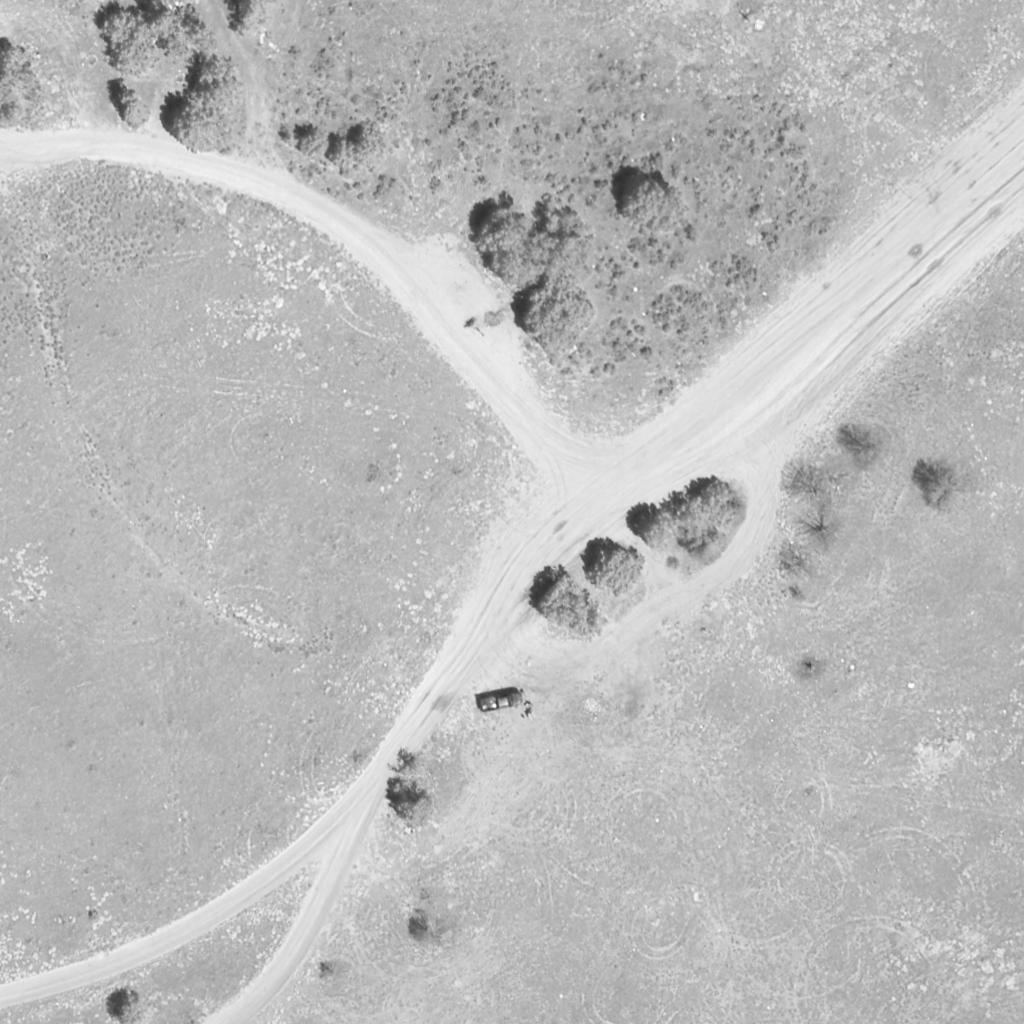vehicle: (478, 692, 524, 714)
